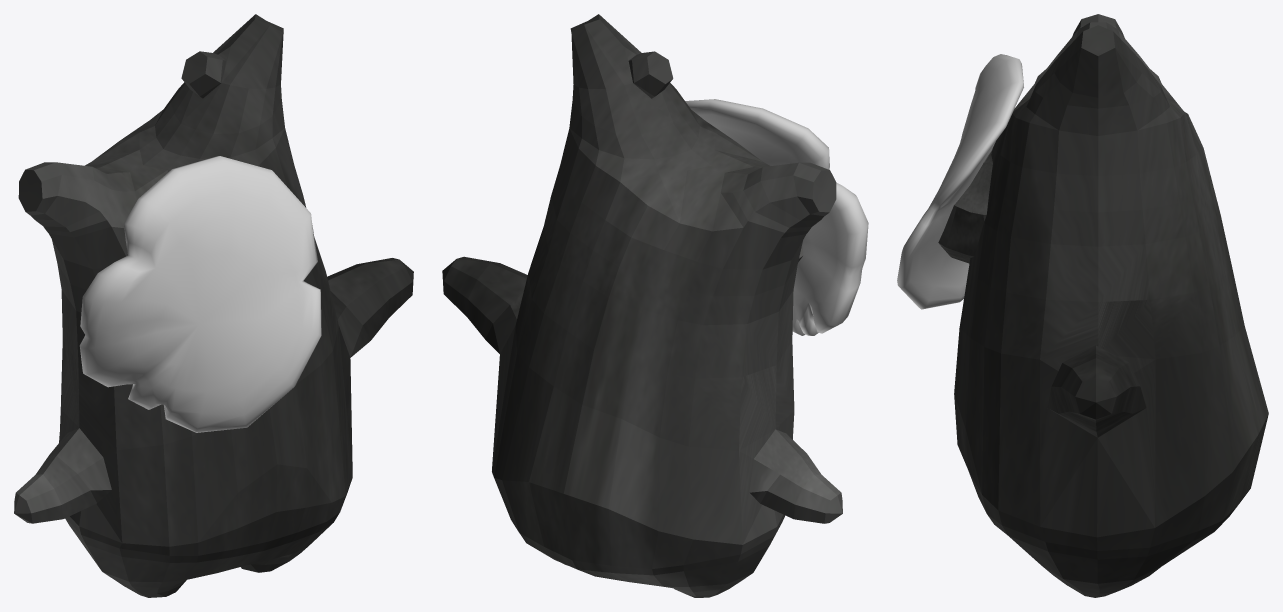
The model's file is frame_0032.obj.
The picture shows the model from 3 angles, left to right: view 1: azimuth 30°, elevation 25°; view 2: azimuth 150°, elevation 25°; view 3: azimuth 270°, elevation 25°; orthographic projection. The views are drawn at different scales.
Visible parts, largest first — view 1: korok, leaf; view 2: korok, leaf; view 3: korok, leaf, nose.
Part boxes in pixels (<box>): korok: <box>14,14,413,597</box>; leaf: <box>79,156,321,432</box>; korok: <box>442,14,842,597</box>; leaf: <box>685,99,868,335</box>; korok: <box>954,14,1268,597</box>; leaf: <box>897,54,1023,309</box>; nose: <box>938,148,992,263</box>.
Size of the model in its own units: 1.76 by 2.32 by 1.38.
